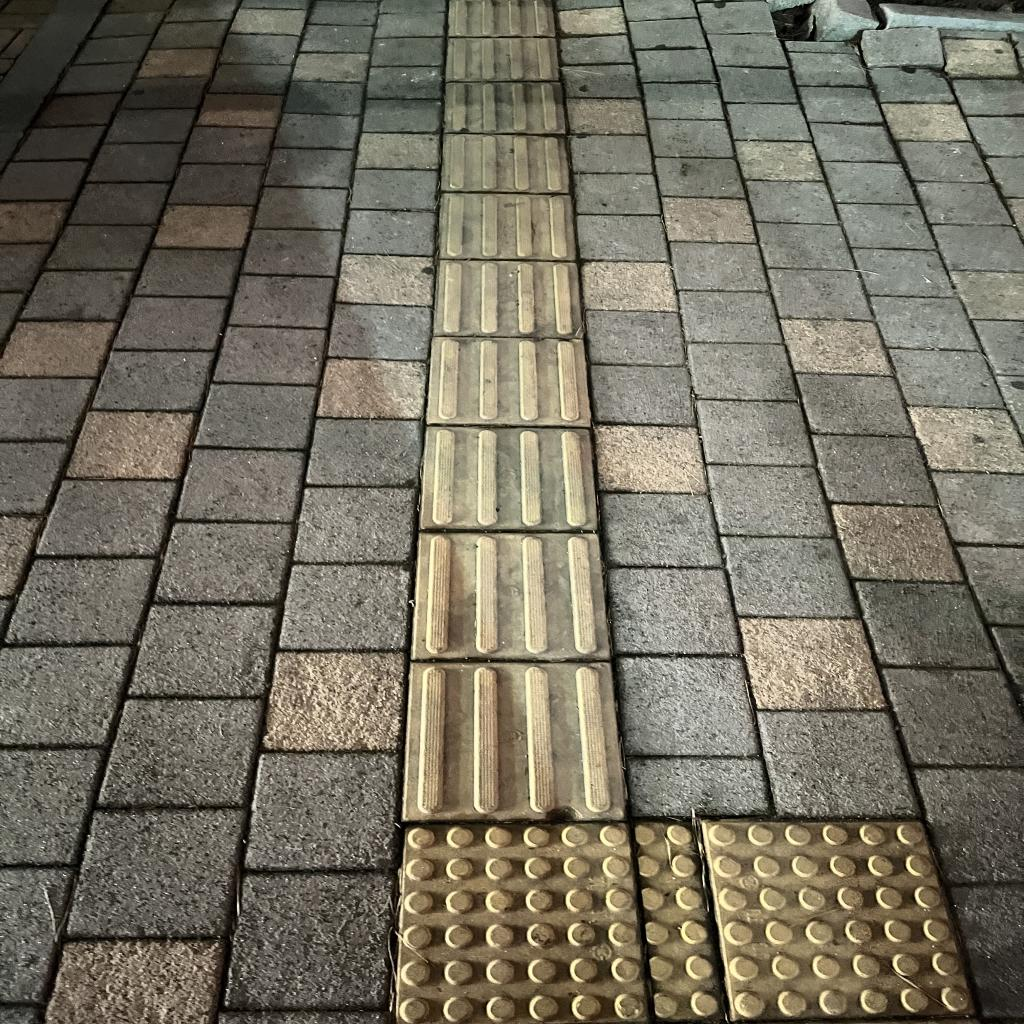Straight block normal: (403, 661, 623, 818), (414, 533, 608, 658), (421, 428, 598, 529), (429, 337, 592, 426), (435, 261, 583, 337), (440, 194, 577, 259)
